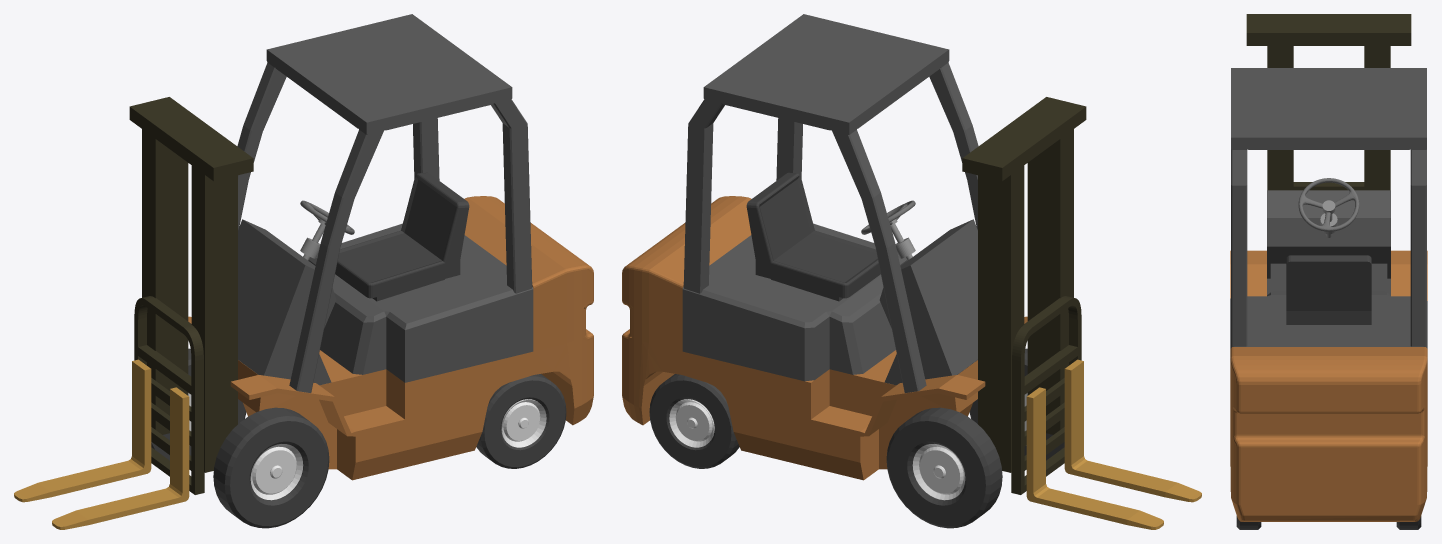
File: forklift2.dae
The picture shows the model from 3 angles, left to right: view 1: azimuth 30°, elevation 25°; view 2: azimuth 150°, elevation 25°; view 3: azimuth 270°, elevation 25°; orthographic projection.
Parts seen in each view (by area): view 1: Cube.9, Roof, Cube_1, Cube.3, Panel, Cube.13, Tube, Tube_1, Cylinder_1, Cylinder_2; view 2: Cube.9, Roof, Cube_1, Cube.3, Panel, Cube.13, Tube, Tube_1, Cylinder_1, Cylinder_2; view 3: Cube_1, Roof, Cube.9, Panel, Cube.3, Cube.13, Tube_2, Tube_1, Cylinder.1_1.
Part boxes in pixels (x1,y1,x2,y2): Cube.9: (14, 97, 253, 529); Roof: (237, 14, 532, 392); Cube_1: (188, 196, 593, 480); Cube.3: (308, 223, 533, 382); Panel: (238, 219, 336, 385); Cube.13: (335, 172, 469, 301); Tube: (151, 348, 329, 528); Tube_1: (476, 374, 566, 468); Cylinder_1: (188, 393, 303, 500); Cylinder_2: (501, 399, 546, 447); Cube.9: (962, 97, 1201, 529); Roof: (683, 14, 978, 392); Cube_1: (622, 196, 1027, 480); Cube.3: (682, 223, 907, 381); Panel: (879, 219, 977, 385); Cube.13: (746, 172, 880, 301); Tube: (886, 348, 1064, 528); Tube_1: (649, 374, 739, 468); Cylinder_1: (912, 393, 1027, 500); Cylinder_2: (669, 399, 714, 447); Cube_1: (1230, 250, 1427, 521); Roof: (1231, 68, 1426, 347); Cube.9: (1246, 14, 1411, 190); Panel: (1267, 190, 1390, 294); Cube.3: (1230, 291, 1427, 348); Cube.13: (1286, 255, 1371, 324); Tube_2: (1298, 178, 1359, 231); Tube_1: (1236, 516, 1421, 529); Cylinder.1_1: (1320, 200, 1337, 237).
Size of the model in its own units: 70.34 by 23.92 by 50.85.
